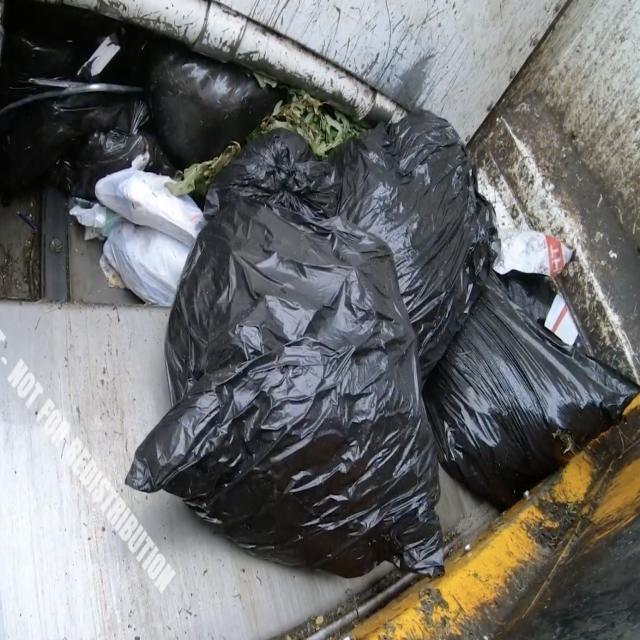bag: (144, 129, 442, 616), (334, 110, 499, 486), (447, 277, 634, 482), (74, 146, 213, 315)
paper: (466, 210, 590, 345)
